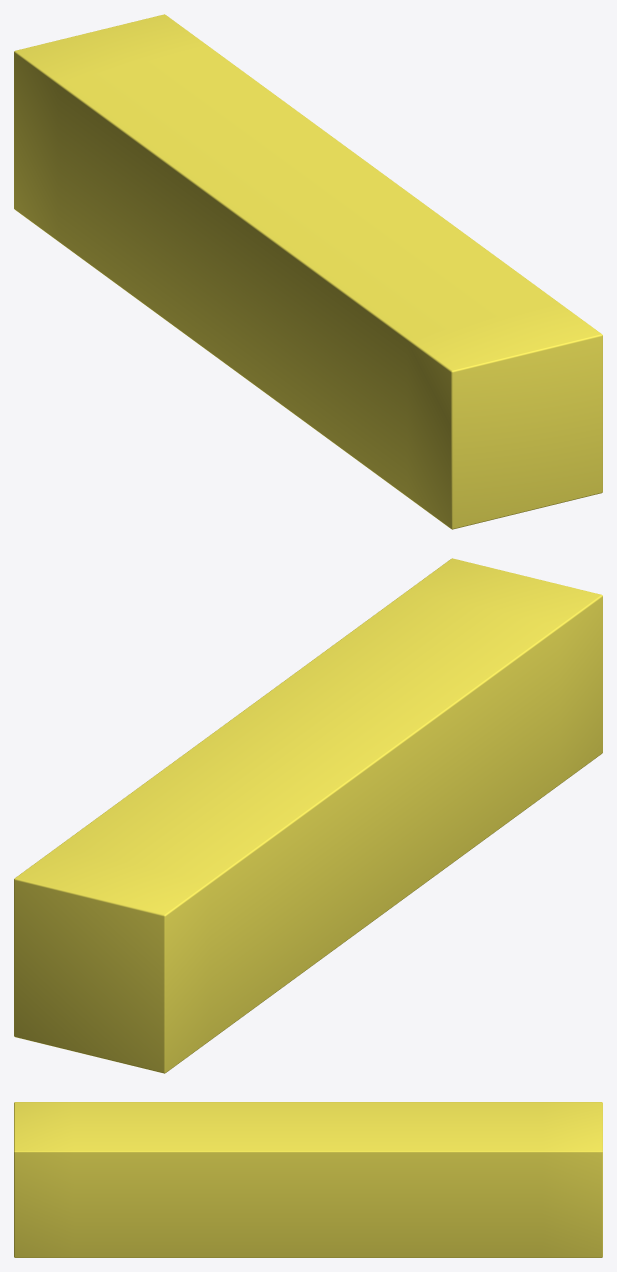
Rendered from yellowBlock.fbx.
The picture shows the model from 3 angles, top to bottom: view 1: azimuth 30°, elevation 25°; view 2: azimuth 150°, elevation 25°; view 3: azimuth 270°, elevation 25°; orthographic projection. The views are drawn at different scales.
Parts seen in each view (by area): view 1: Yellow_Block; view 2: Yellow_Block; view 3: Yellow_Block.
Part boxes in pixels (left/top/right/bottom): Yellow_Block: left=14, top=14, right=602, bottom=529; Yellow_Block: left=14, top=558, right=602, bottom=1073; Yellow_Block: left=14, top=1102, right=602, bottom=1257.
Size of the model in its own units: 100 by 100 by 500.
